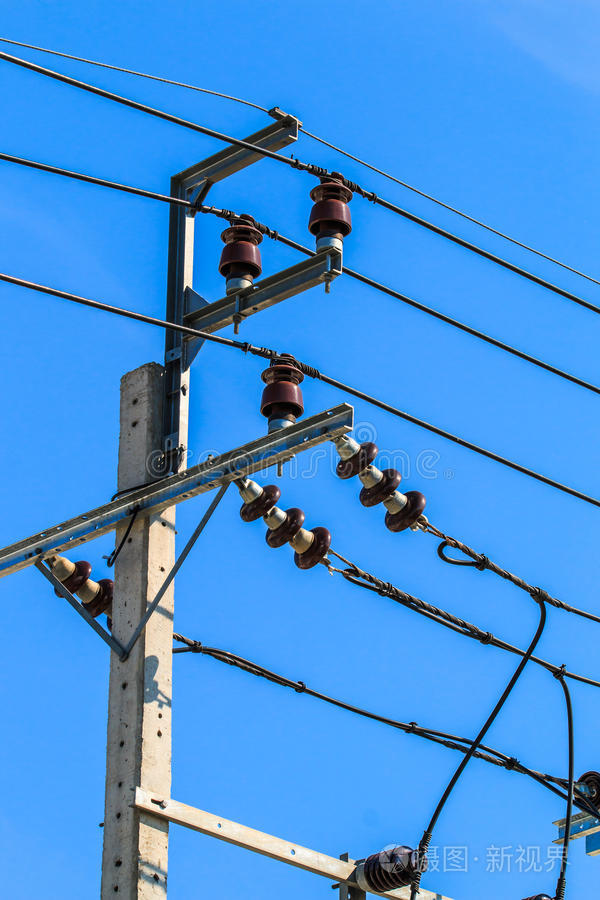insulator: (333, 440, 425, 535), (242, 485, 329, 569), (50, 557, 117, 619)
